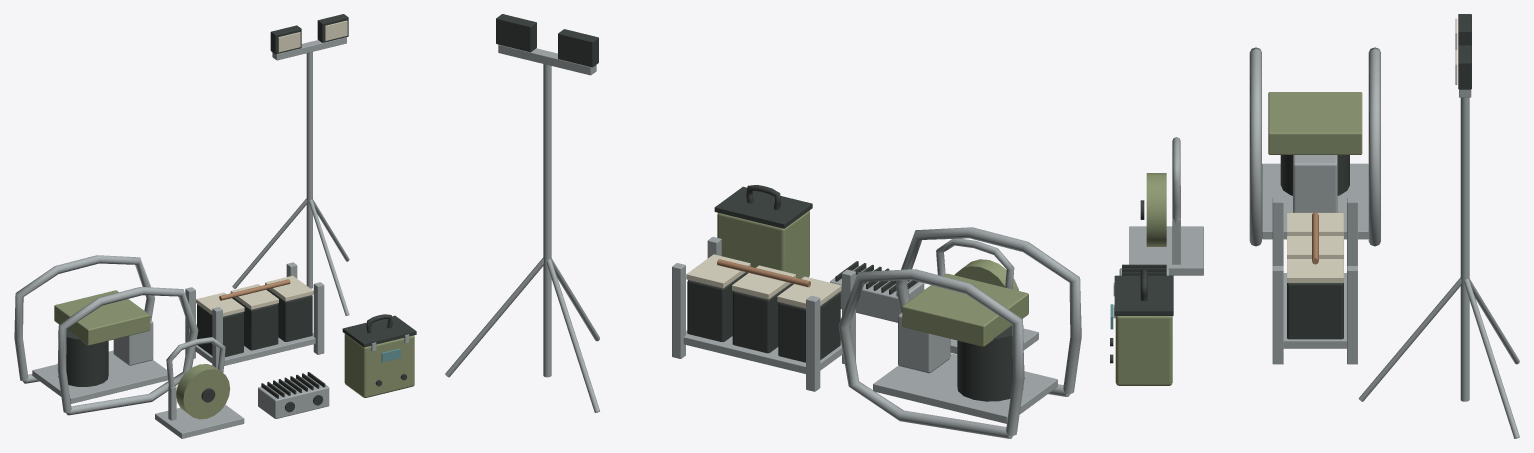
Rendered from off-grid-power-and-controls-small-power--d72e9c95-starter-scene__3031.glb.
The picture shows the model from 3 angles, left to right: view 1: azimuth 30°, elevation 25°; view 2: azimuth 150°, elevation 25°; view 3: azimuth 270°, elevation 25°; orthographic projection. The views are drawn at different scales.
Visible parts, largest first — view 1: 000-open-frame-generator/0, 001-deep-cycle-battery-bank/1, 003-tripod-light/0, 005-lithium-power-box/0, 000-open-frame-generator/2, 001-deep-cycle-battery-bank/0, 004-extension-reel/0, 004-extension-reel/1, 001-deep-cycle-battery-bank/2, 000-open-frame-generator/1, 002-sine-inverter/0, 005-lithium-power-box/lid/dark (+4 smaller); view 2: 000-open-frame-generator/0, 001-deep-cycle-battery-bank/1, 003-tripod-light/0, 001-deep-cycle-battery-bank/0, 000-open-frame-generator/2, 005-lithium-power-box/0, 001-deep-cycle-battery-bank/2, 000-open-frame-generator/1, 003-tripod-light/1, 005-lithium-power-box/lid/dark, 002-sine-inverter/0, 004-extension-reel/0 (+3 smaller); view 3: 000-open-frame-generator/0, 000-open-frame-generator/2, 003-tripod-light/0, 001-deep-cycle-battery-bank/0, 005-lithium-power-box/0, 004-extension-reel/0, 001-deep-cycle-battery-bank/2, 001-deep-cycle-battery-bank/1, 005-lithium-power-box/lid/dark, 004-extension-reel/1, 003-tripod-light/1, 000-open-frame-generator/1 (+1 smaller).
Part boxes in pixels (x1,y1,x2,y2): 000-open-frame-generator/0: (14, 255, 198, 415); 001-deep-cycle-battery-bank/1: (197, 289, 312, 356); 003-tripod-light/0: (232, 37, 349, 315); 005-lithium-power-box/0: (344, 334, 414, 397); 000-open-frame-generator/2: (54, 290, 150, 345); 001-deep-cycle-battery-bank/0: (185, 262, 324, 368); 004-extension-reel/0: (155, 337, 244, 438); 004-extension-reel/1: (176, 364, 230, 419); 001-deep-cycle-battery-bank/2: (196, 275, 313, 316); 000-open-frame-generator/1: (58, 329, 108, 386); 002-sine-inverter/0: (258, 375, 329, 418); 005-lithium-power-box/lid/dark: (342, 315, 416, 347); 000-open-frame-generator/0: (838, 227, 1081, 438); 001-deep-cycle-battery-bank/1: (687, 272, 840, 362); 003-tripod-light/0: (445, 44, 599, 412); 001-deep-cycle-battery-bank/0: (672, 237, 855, 391); 000-open-frame-generator/2: (902, 273, 1028, 346); 005-lithium-power-box/0: (717, 210, 809, 278); 001-deep-cycle-battery-bank/2: (686, 254, 841, 308); 000-open-frame-generator/1: (957, 325, 1023, 401); 003-tripod-light/1: (496, 14, 598, 67); 005-lithium-power-box/lid/dark: (714, 186, 812, 228); 002-sine-inverter/0: (830, 266, 924, 322); 004-extension-reel/0: (936, 238, 1038, 353); 000-open-frame-generator/0: (1249, 47, 1380, 246); 000-open-frame-generator/2: (1268, 92, 1362, 154); 003-tripod-light/0: (1358, 89, 1519, 438); 001-deep-cycle-battery-bank/0: (1272, 197, 1357, 364); 005-lithium-power-box/0: (1115, 316, 1172, 385); 004-extension-reel/0: (1129, 137, 1203, 275); 001-deep-cycle-battery-bank/2: (1287, 212, 1343, 282); 001-deep-cycle-battery-bank/1: (1287, 283, 1343, 339); 005-lithium-power-box/lid/dark: (1114, 275, 1173, 315); 004-extension-reel/1: (1146, 173, 1166, 246); 003-tripod-light/1: (1458, 14, 1471, 89); 000-open-frame-generator/1: (1280, 155, 1349, 195).
Bounding box in the file's own units: 2.47 × 1.62 × 1.65.
